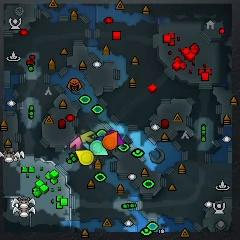p1: (95, 136, 105, 142)
p2: (91, 140, 108, 156)
p3: (106, 130, 123, 146)
p4: (75, 151, 94, 165)
p5: (103, 131, 118, 150)
x1: (70, 137, 83, 150)
x2: (80, 131, 94, 143)
x3: (83, 140, 90, 150)
